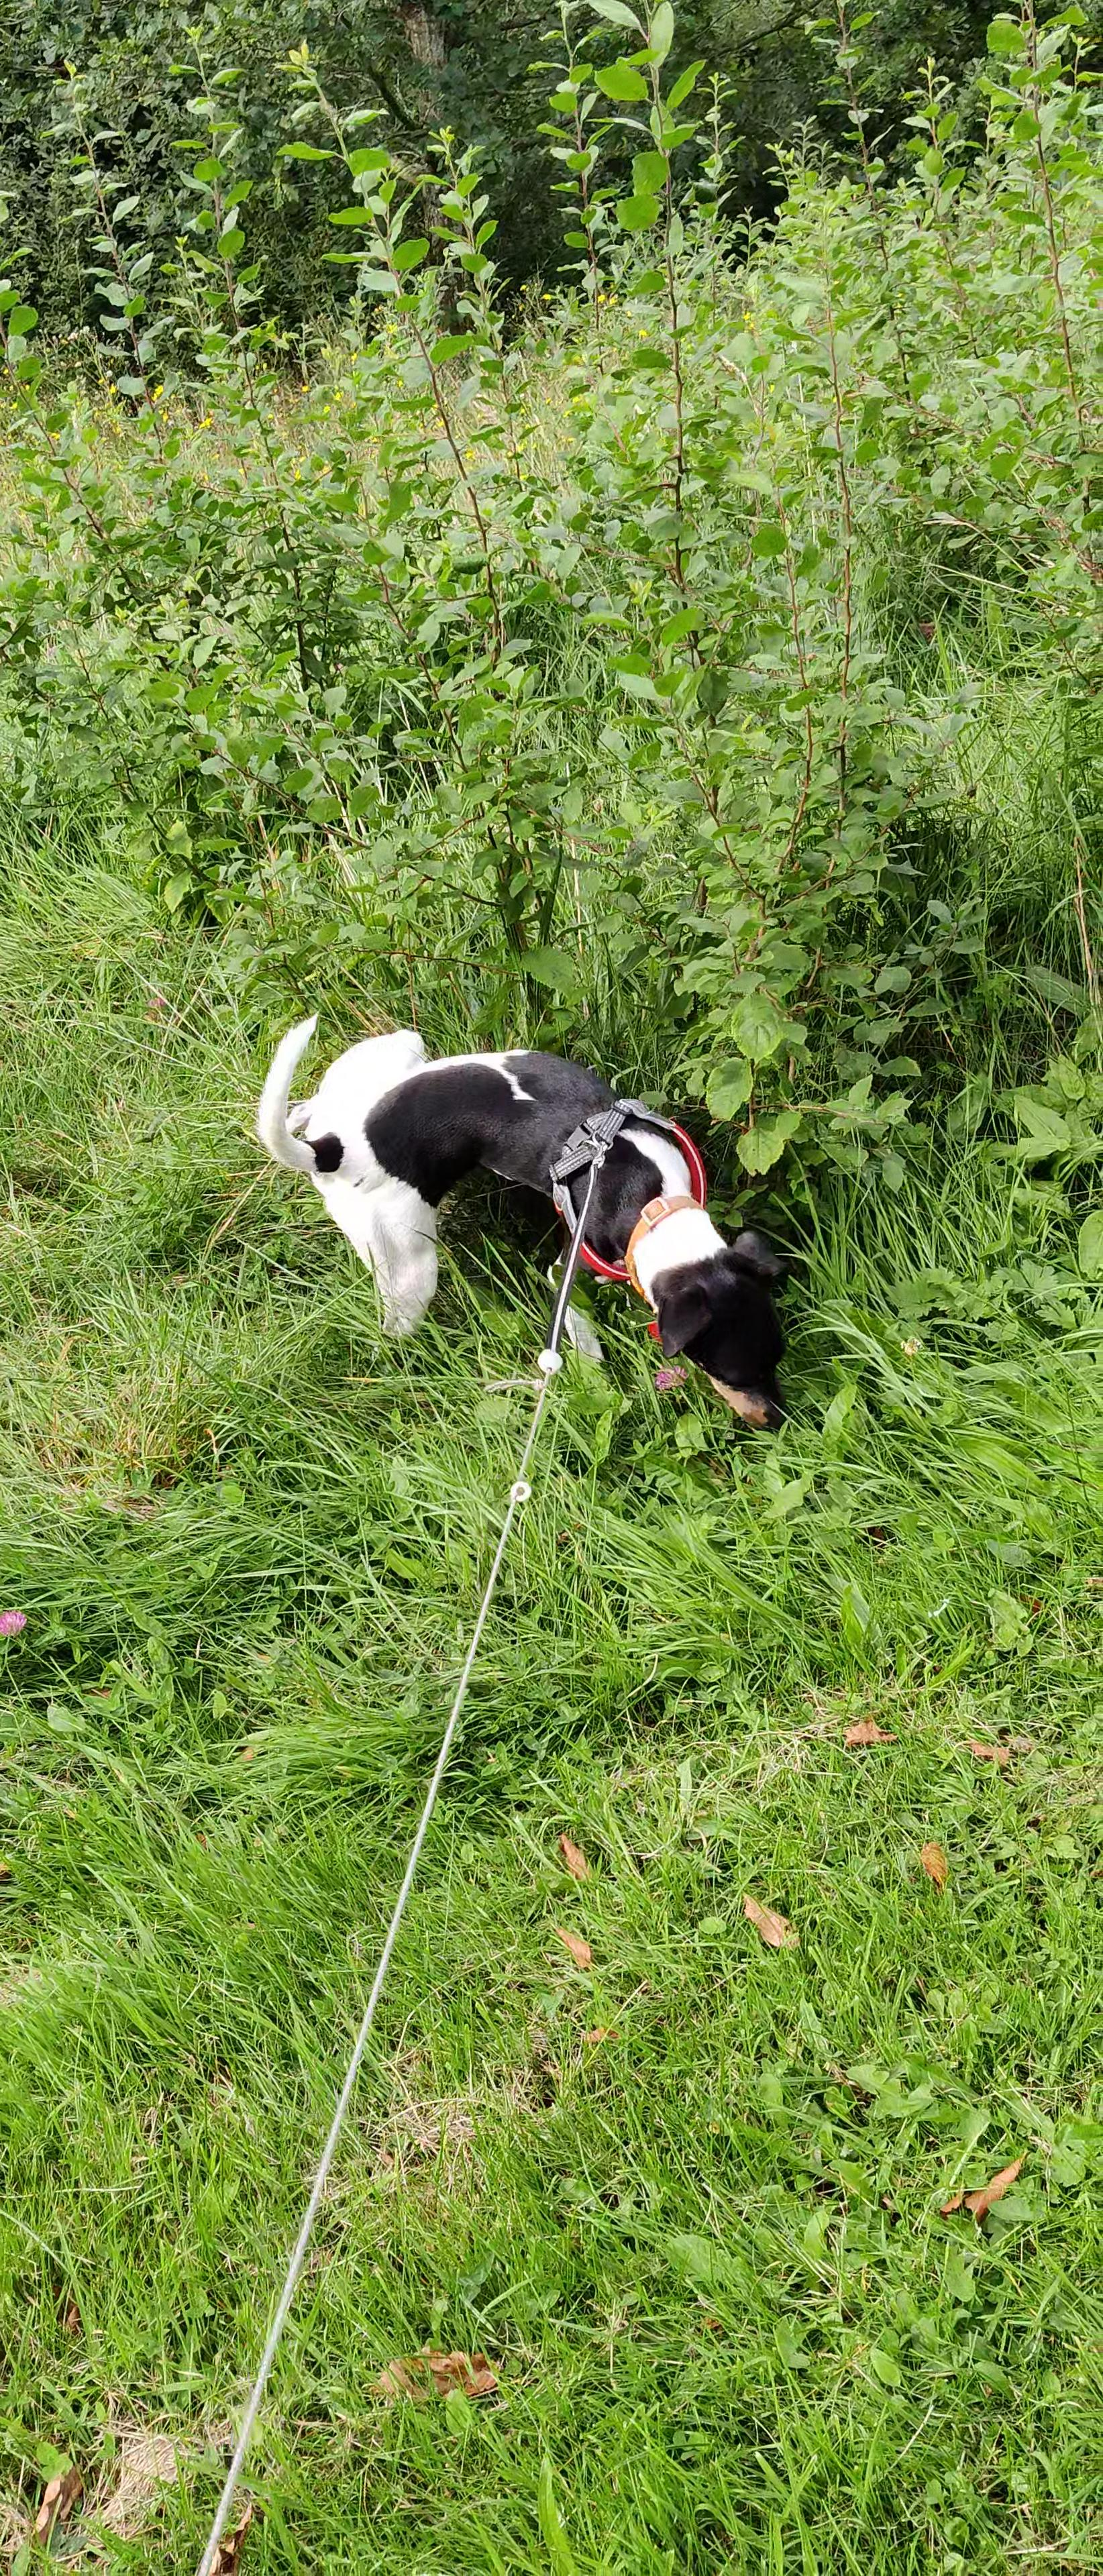Dog: (247, 1004, 804, 1434)
